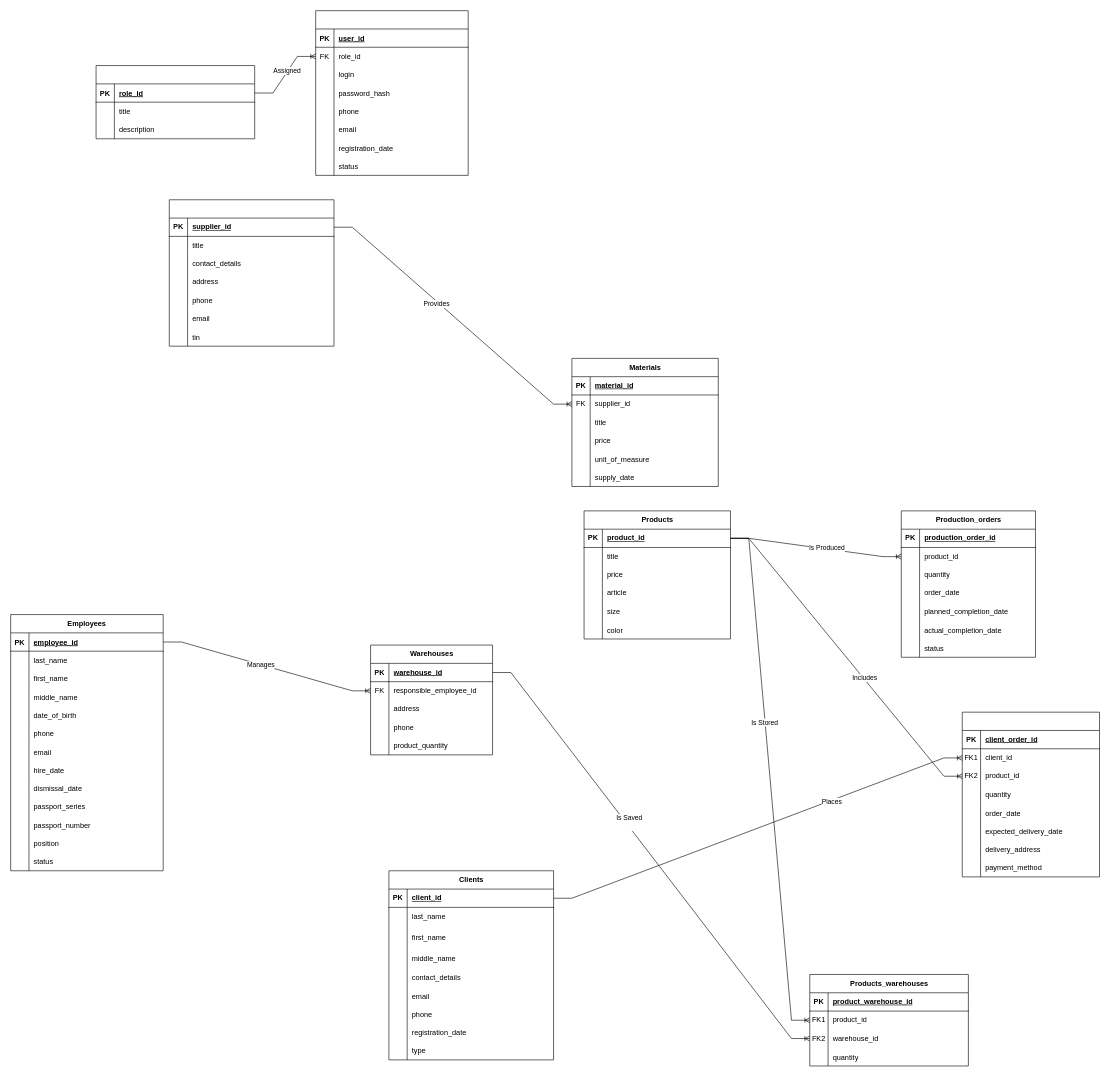
This 1110x1077 diagram has some shape labels left out. Each missing label, with the box of its shape:
Clients_orders: (962, 712, 1100, 877)
Roles: (95, 65, 255, 139)
Suppliers: (169, 199, 334, 346)
Users: (315, 10, 468, 175)
